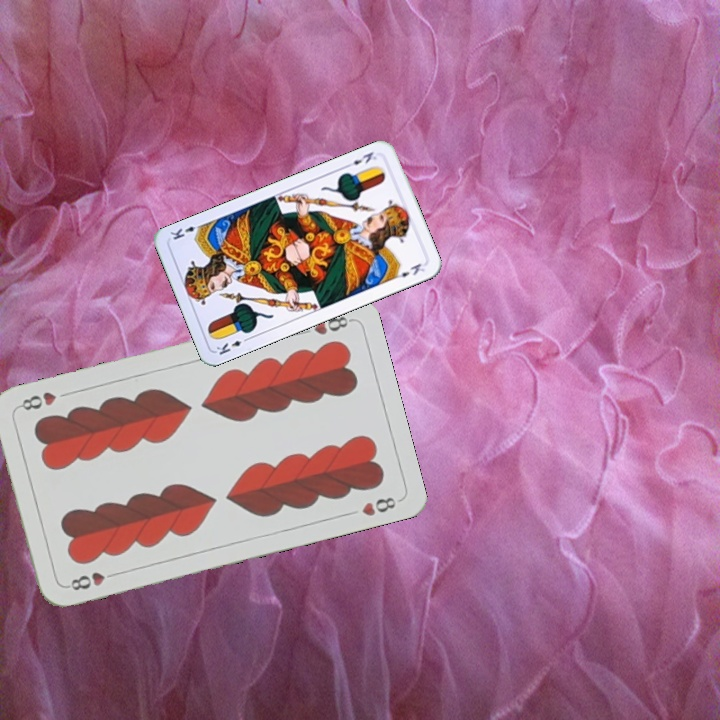EK: (212, 333, 252, 358), (342, 147, 379, 170)
H8: (62, 568, 121, 593), (309, 312, 354, 338)
